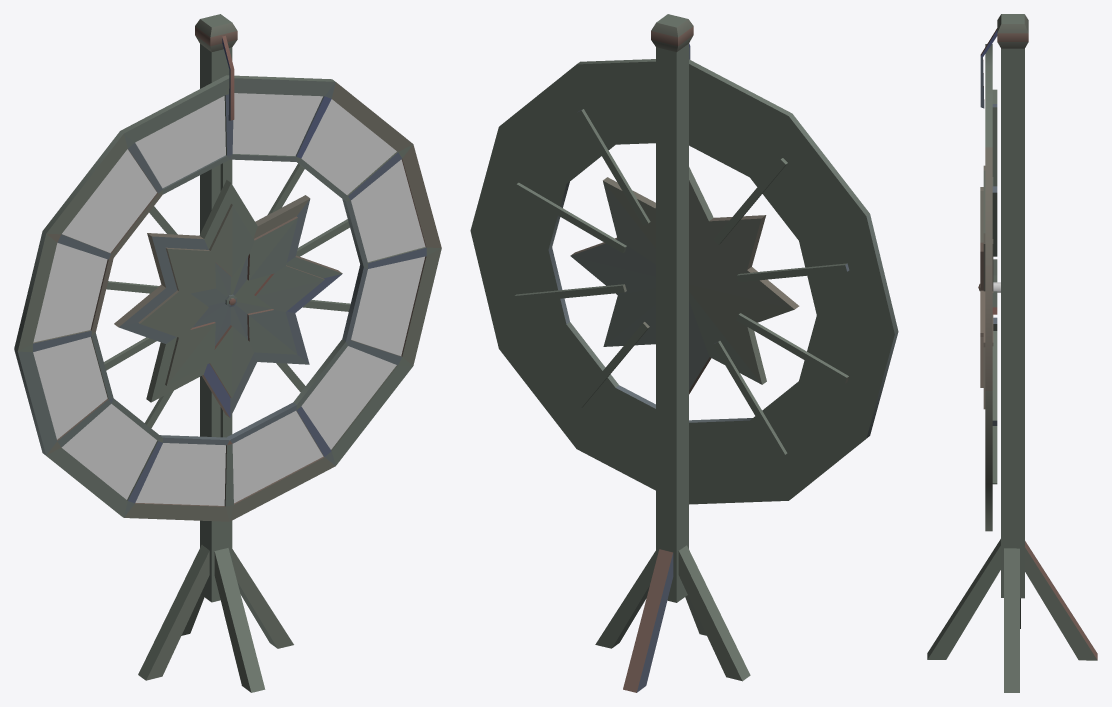
The model's file is kolohitmiss.fbx.
3 views of the same model, side by side, from view 1: azimuth 30°, elevation 25°; view 2: azimuth 150°, elevation 25°; view 3: azimuth 270°, elevation 25° (orthographic).
Visible parts, largest first — view 1: Cylinder, Mesh, Mesh (4), Mesh (3), Mesh (5), Mesh (2); view 2: Mesh, Mesh (4), Mesh (5), Mesh (2), Mesh (3); view 3: Mesh (5), Mesh (3), Mesh, Mesh (2), Mesh (4), Mesh (8).
Part boxes in pixels (<box>): Cylinder: <box>33,93,425,505</box>; Mesh: <box>14,75,441,521</box>; Mesh (4): <box>114,180,342,417</box>; Mesh (3): <box>138,545,293,692</box>; Mesh (5): <box>195,14,237,602</box>; Mesh (2): <box>104,160,350,437</box>; Mesh: <box>470,59,898,504</box>; Mesh (4): <box>570,167,799,394</box>; Mesh (5): <box>651,14,693,602</box>; Mesh (2): <box>514,109,849,457</box>; Mesh (3): <box>595,545,750,692</box>; Mesh (5): <box>997,14,1028,598</box>; Mesh (3): <box>927,539,1097,692</box>; Mesh: <box>985,44,992,531</box>; Mesh (2): <box>992,89,997,484</box>; Mesh (4): <box>980,165,993,409</box>; Mesh (8): <box>980,28,997,108</box>.
Bounding box in the file's own units: 120 × 173 × 41.86.
